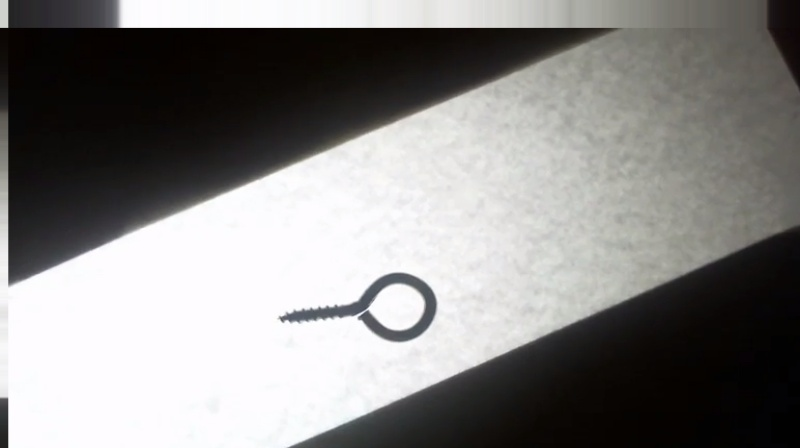O001: (271, 269, 444, 344)
